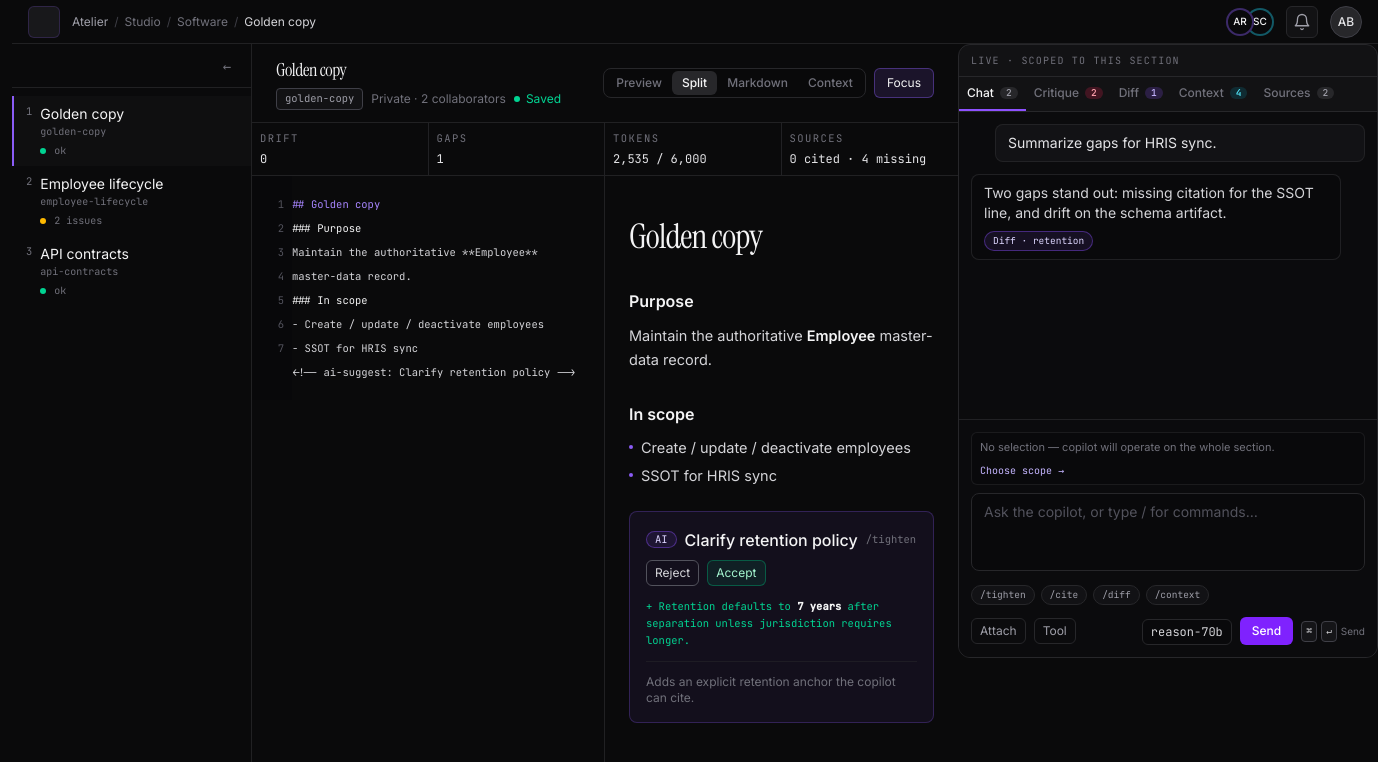
Test case: OutlineEditorPage › toggles health drawer open and closed
What coordinates should you click on to do the following:
click the button with aria-label "drift metric"
I would click on:
 (340, 149)
Its box is [252,123,428,175].
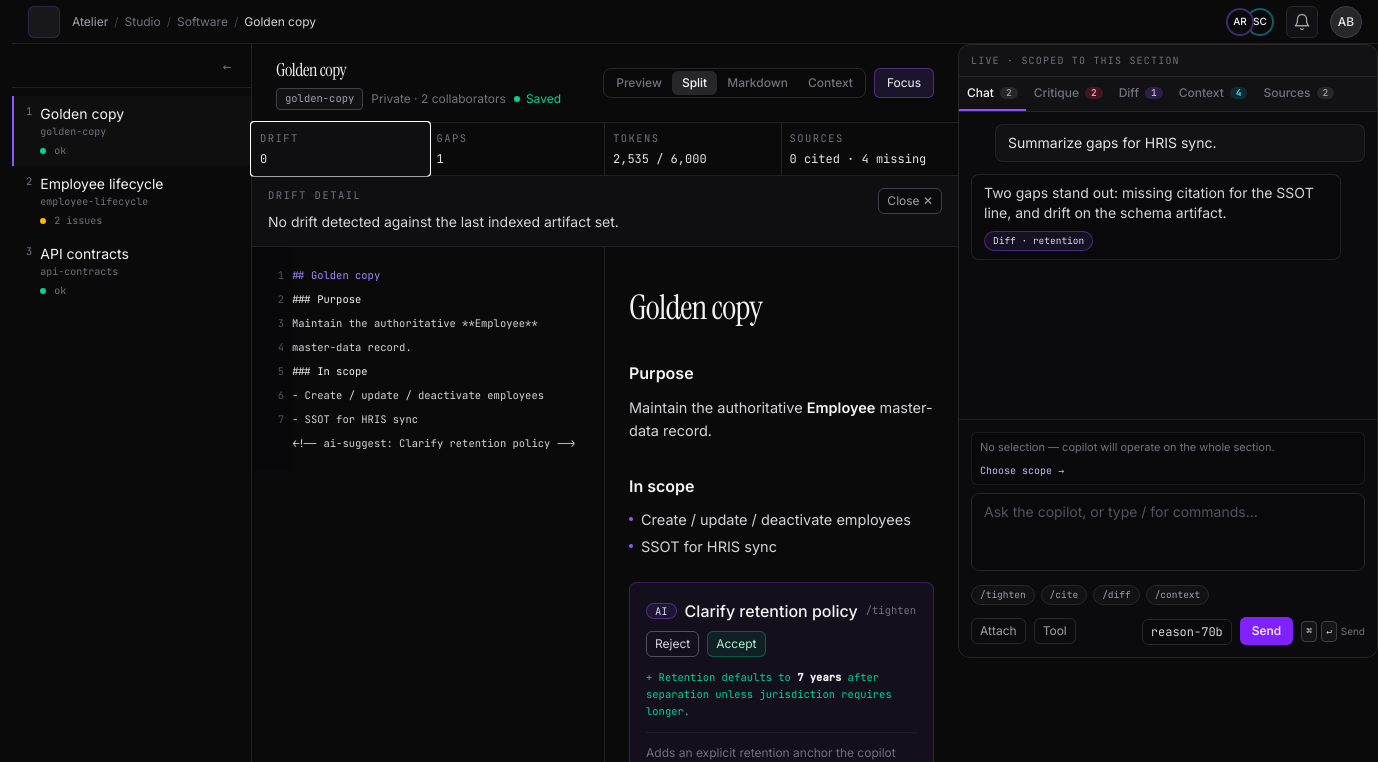
Check: the button "Close ✕" is shown
What coordinates should you click on to do the following:
click the button "Close ✕"
I would click on:
 (910, 200)
Its box is [878,188,942,214].
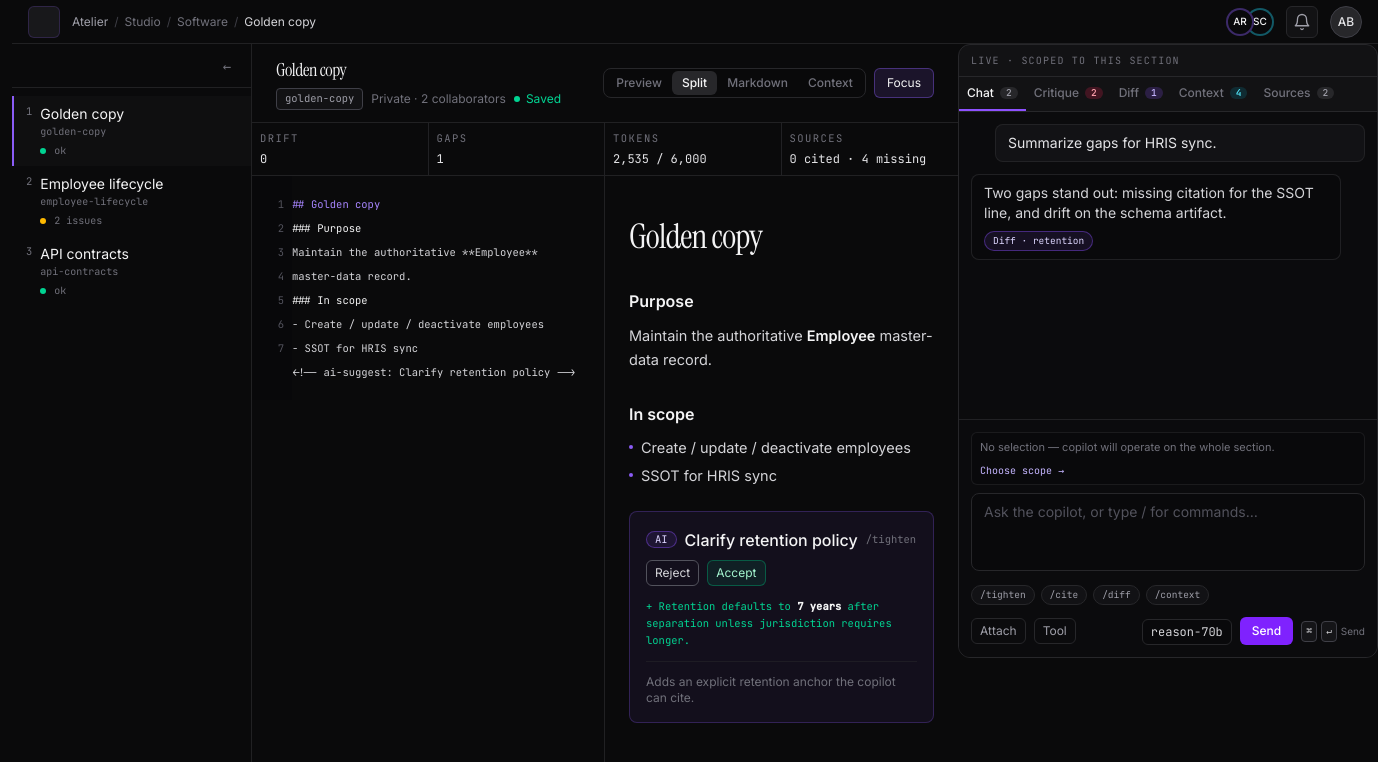
Check: the button "Close ✕" is gone
